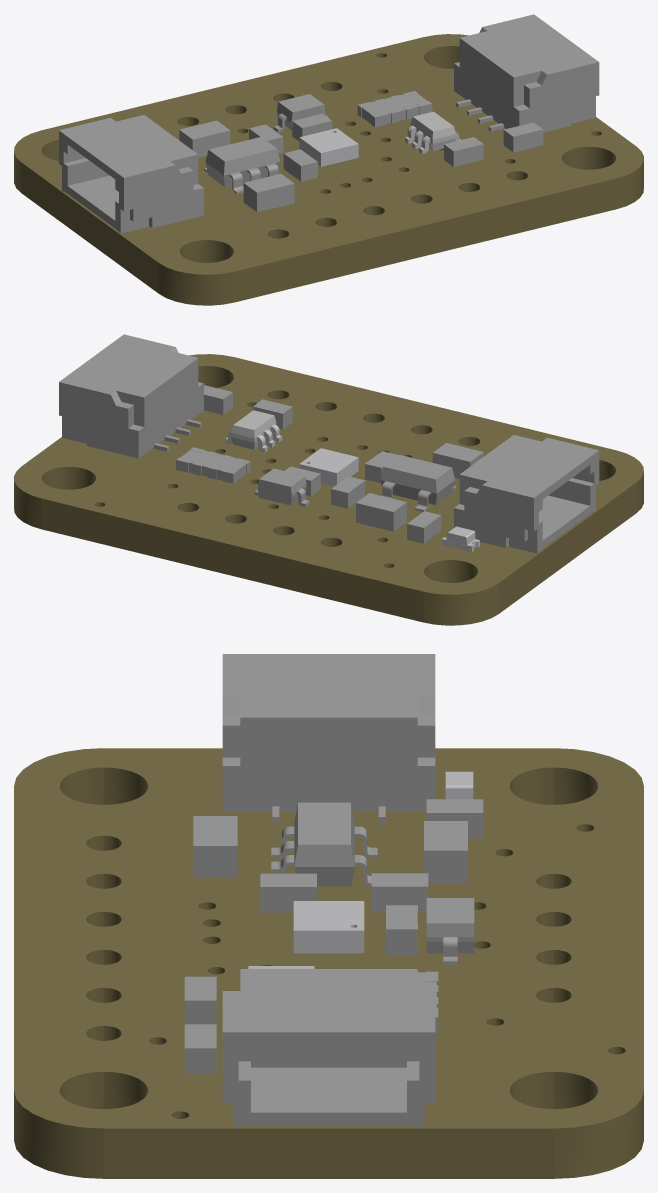
Rendered from ada-4479.glb.
3 views of the same model, one above another, from view 1: azimuth 30°, elevation 25°; view 2: azimuth 150°, elevation 25°; view 3: azimuth 270°, elevation 25° (orthographic). The views are drawn at different scales.
Visible parts, largest first — view 1: 0.16666666666666666_0.16666666666666666_0.08333333333333333_, 0.3333333333333333_0.3333333333333333_0.3333333333333333_0, 0.5833333333333334_0.5833333333333334_0.5833333333333334_0.8, 0.5_0.5_0.5_0.85; view 2: 0.16666666666666666_0.16666666666666666_0.08333333333333333_, 0.3333333333333333_0.3333333333333333_0.3333333333333333_0, 0.5833333333333334_0.5833333333333334_0.5833333333333334_0.8, 0.5_0.5_0.5_0.85; view 3: 0.16666666666666666_0.16666666666666666_0.08333333333333333_, 0.3333333333333333_0.3333333333333333_0.3333333333333333_0, 0.5833333333333334_0.5833333333333334_0.5833333333333334_0.8.
Part boxes in pixels (x1,y1,x2,y2): 0.16666666666666666_0.16666666666666666_0.08333333333333333_: (14,34,643,305); 0.3333333333333333_0.3333333333333333_0.3333333333333333_0: (59,14,599,233); 0.5833333333333334_0.5833333333333334_0.5833333333333334_0.8: (299,128,358,166); 0.5_0.5_0.5_0.85: (405,111,460,154); 0.16666666666666666_0.16666666666666666_0.08333333333333333_: (14,354,643,625); 0.3333333333333333_0.3333333333333333_0.3333333333333333_0: (59,334,599,553); 0.5833333333333334_0.5833333333333334_0.5833333333333334_0.8: (299,448,479,552); 0.5_0.5_0.5_0.85: (225,410,282,452); 0.16666666666666666_0.16666666666666666_0.08333333333333333_: (14,748,643,1178); 0.3333333333333333_0.3333333333333333_0.3333333333333333_0: (184,654,483,1127); 0.5833333333333334_0.5833333333333334_0.5833333333333334_0.8: (293,771,473,953).
Size of the model in its own units: 2.54 by 0.4529 by 1.78.
